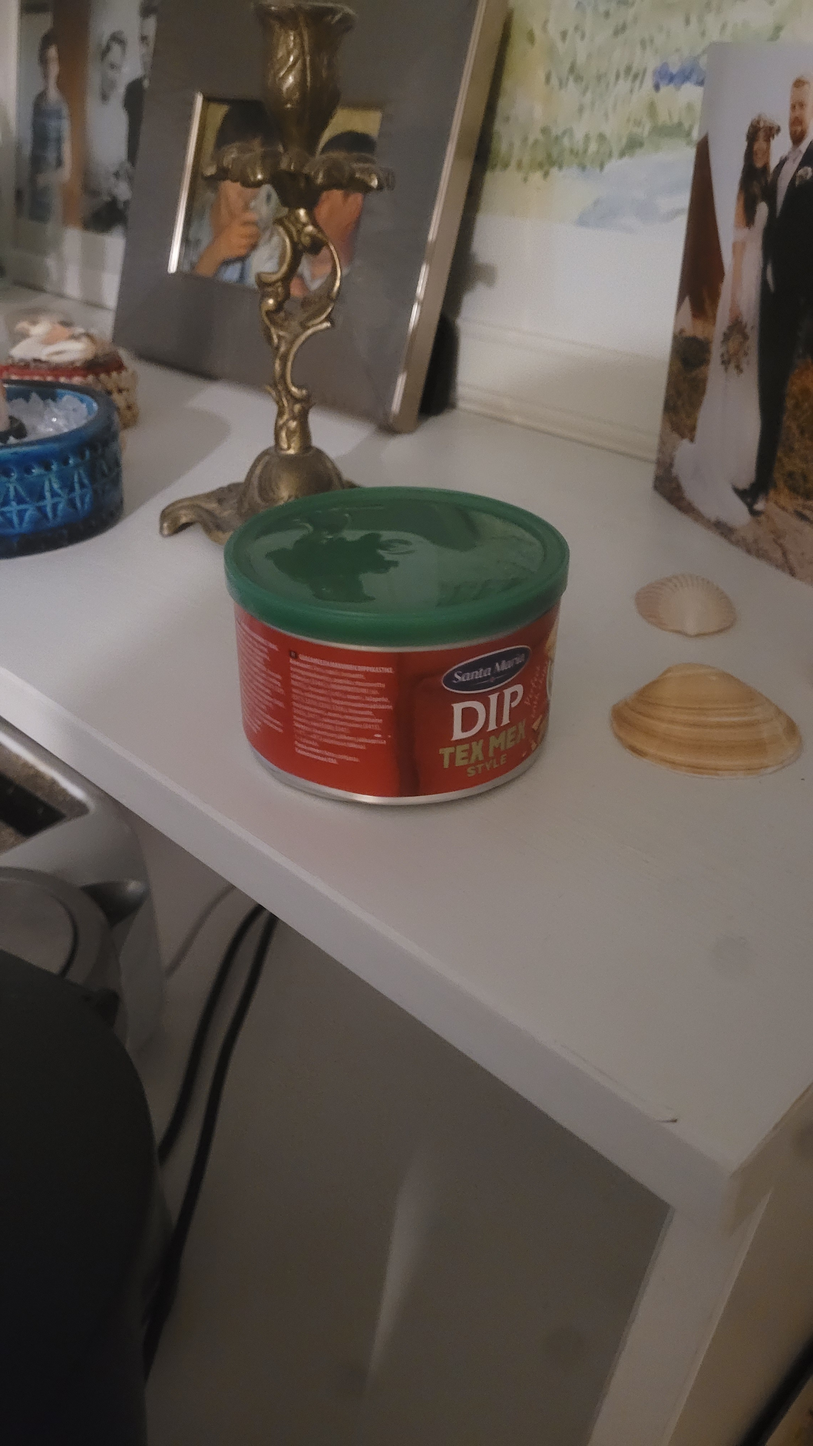Konservburk: (224, 486, 571, 812)
